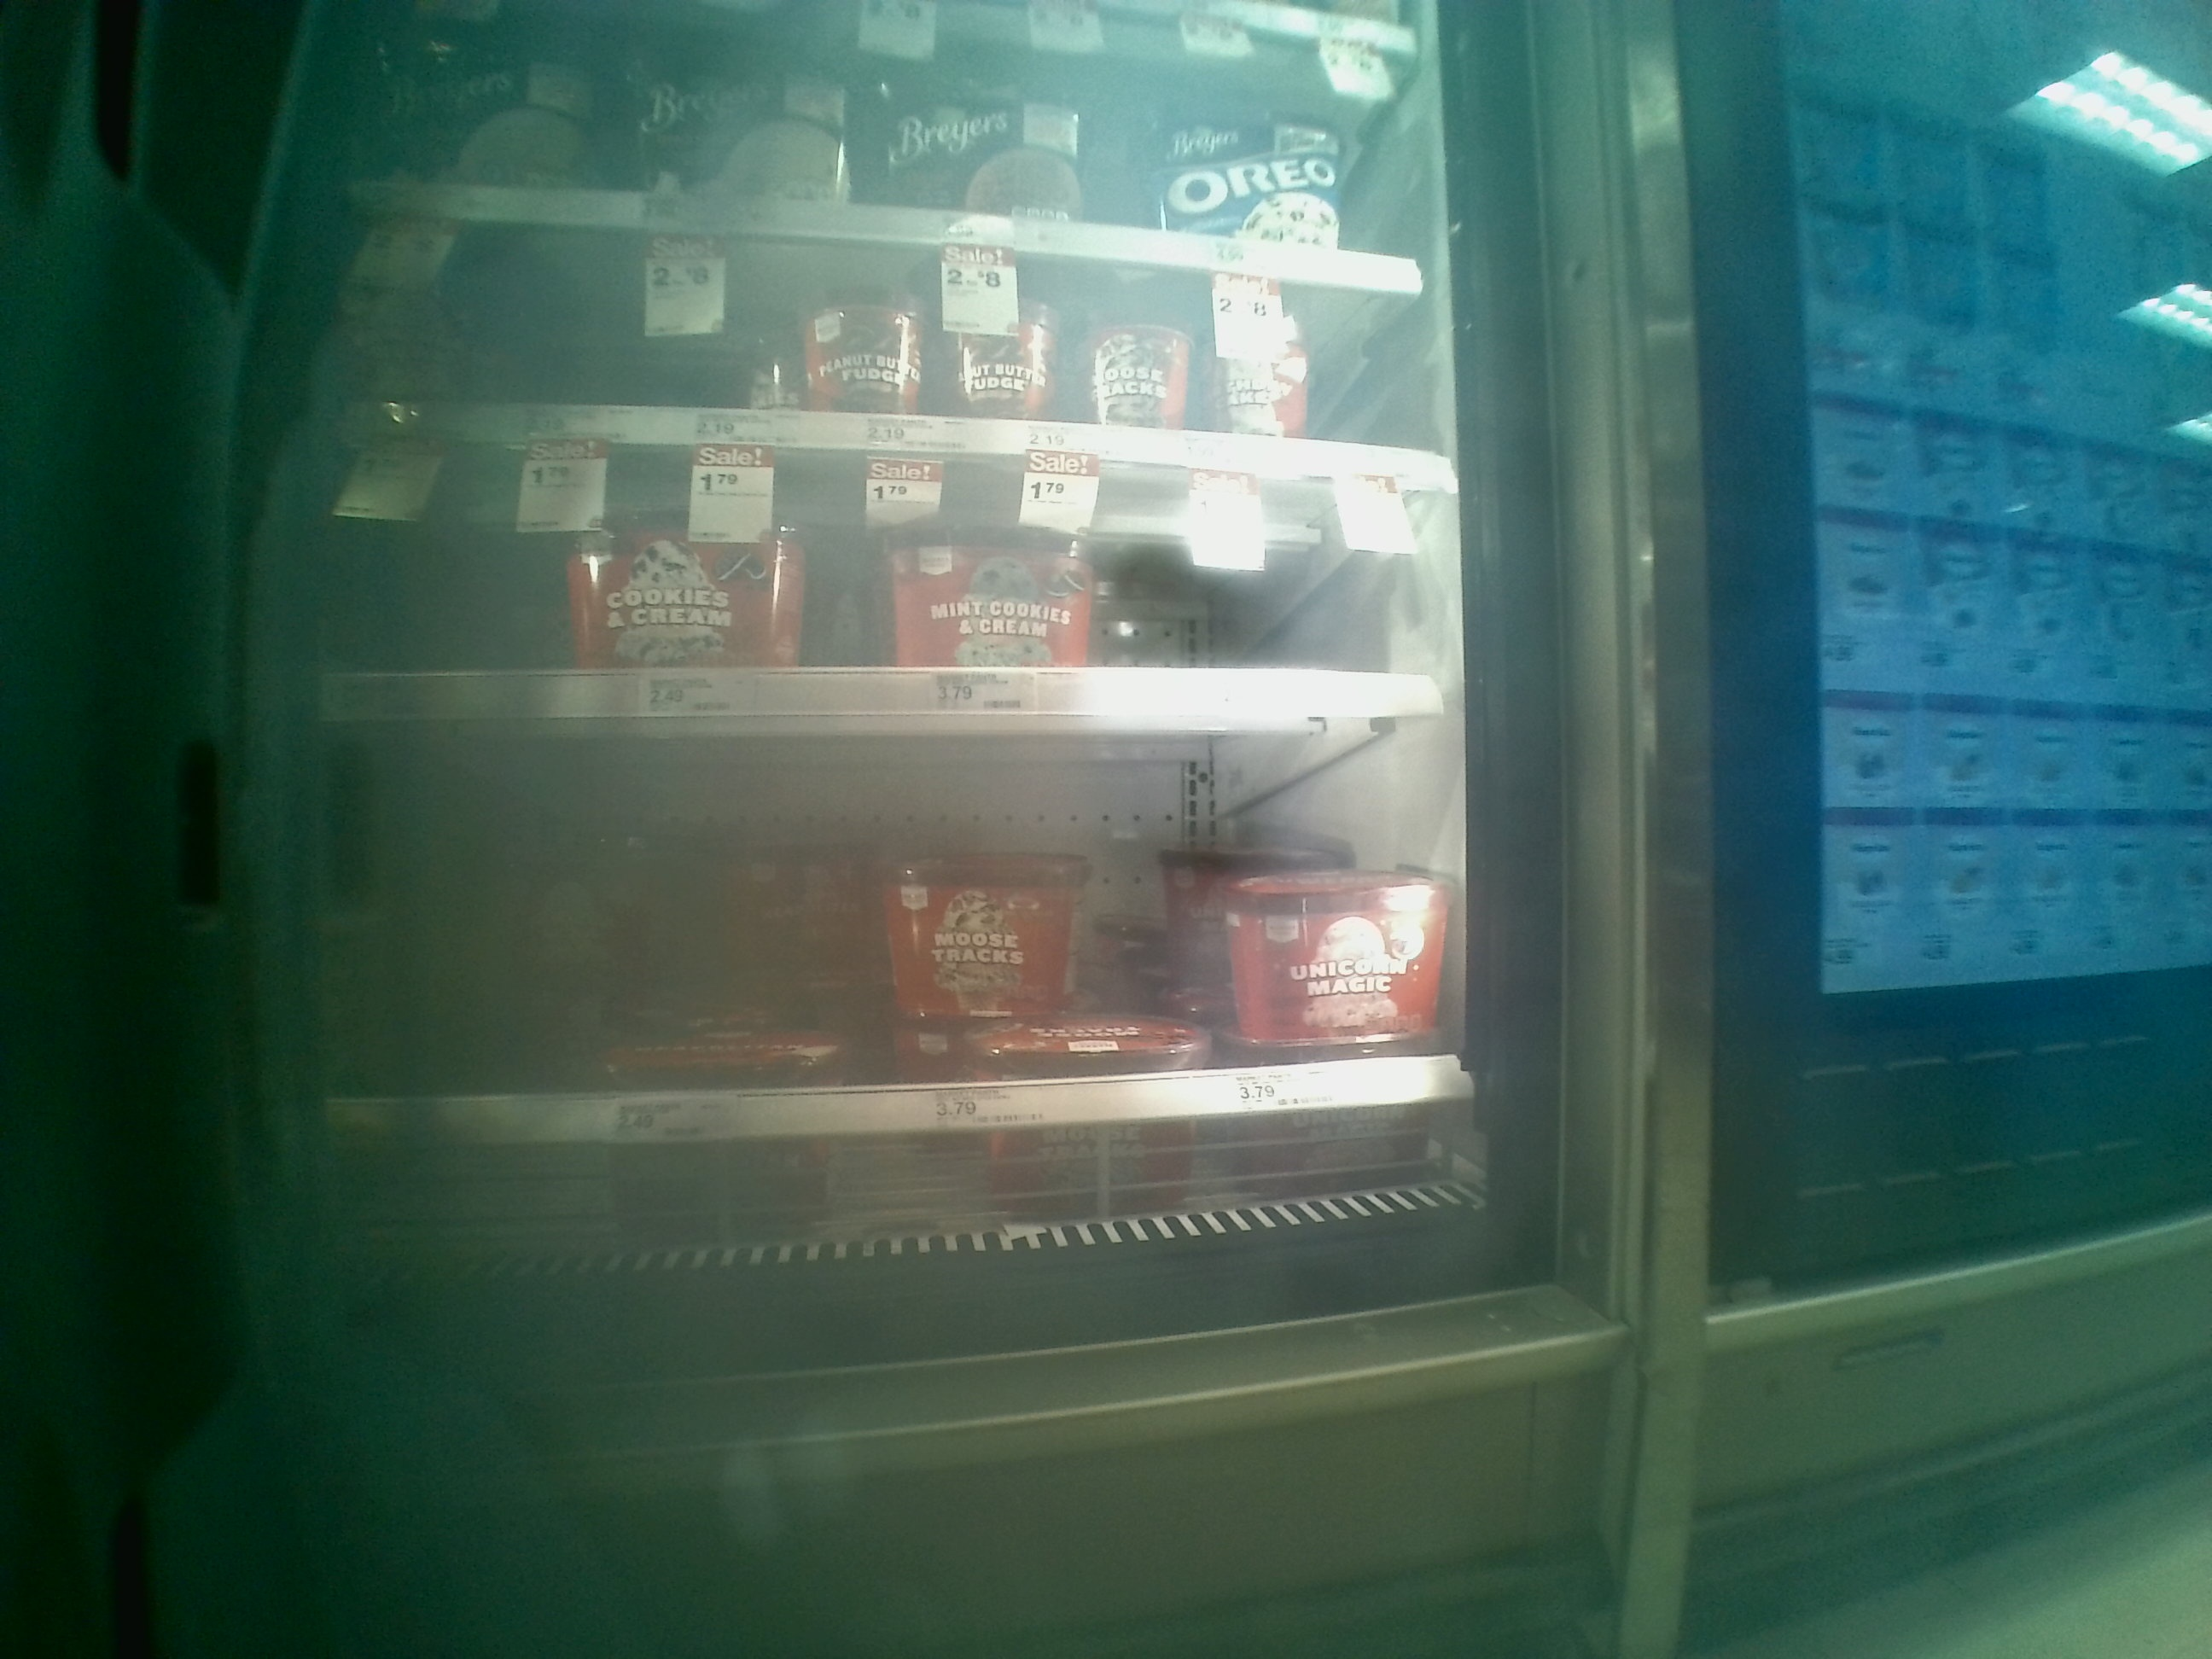shelf: (308, 718, 1475, 1215), (314, 448, 1460, 728), (319, 207, 1456, 481)
